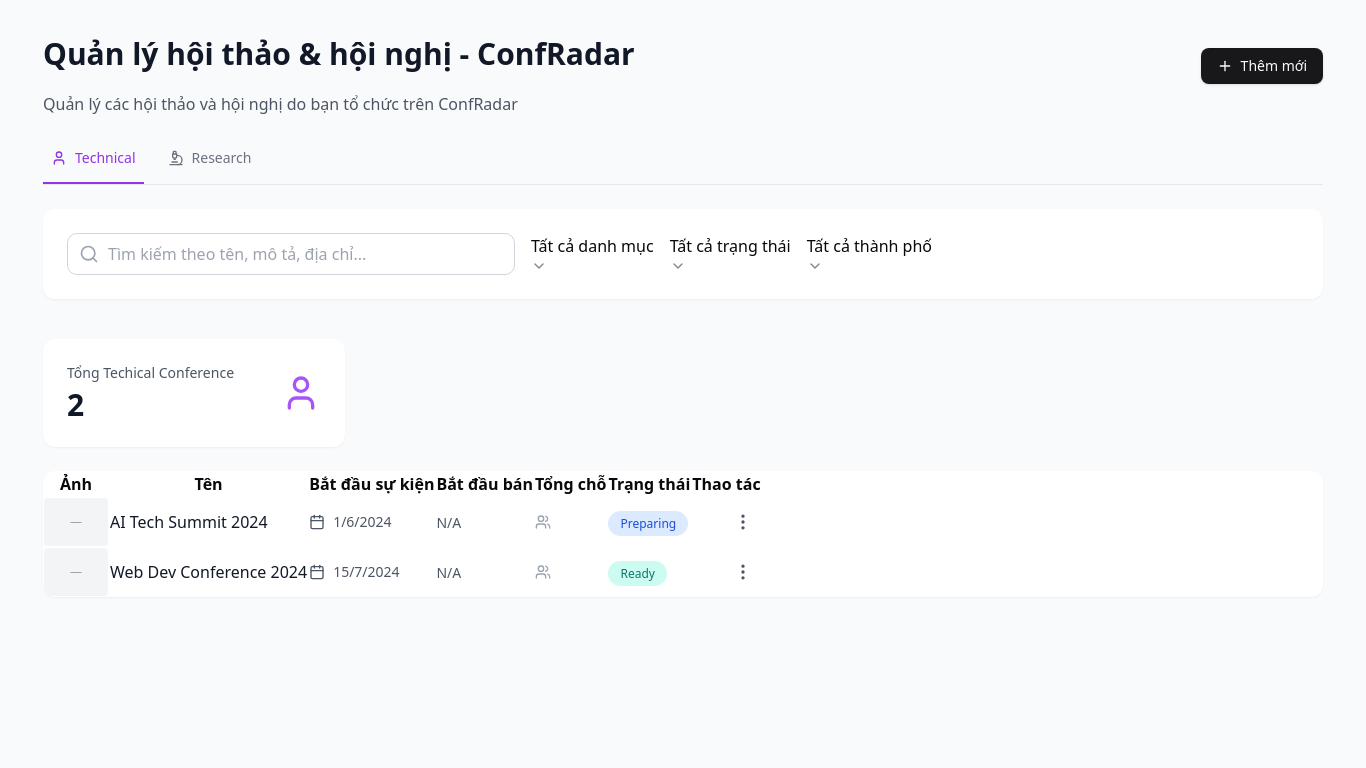
Test: ManageConference Component › switches to research tab when clicked
Click the button "Research" at (209, 166), box [160,148,259,184]
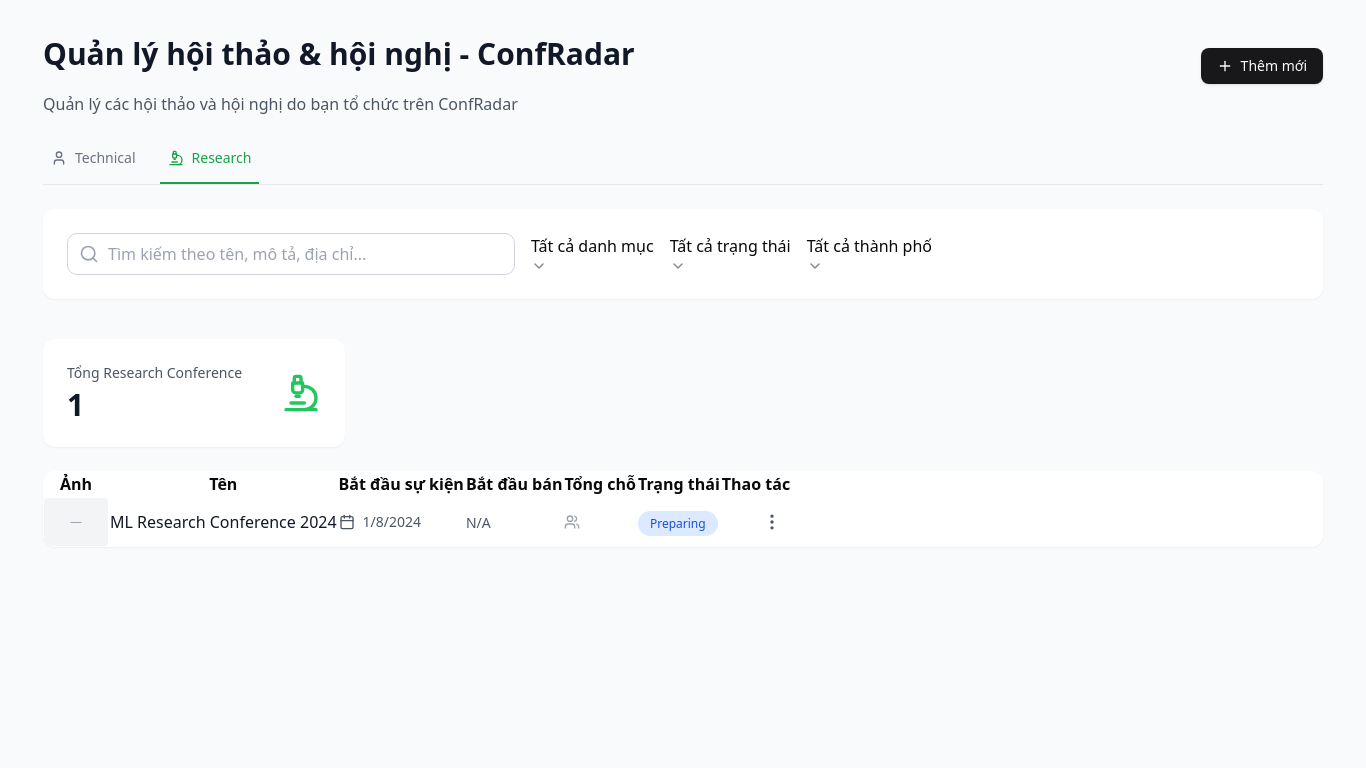
Expected: the text "ML Research Conference 2024" is shown, [110,510,337,534]
